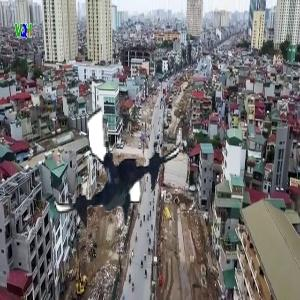drone: (44, 90, 192, 238)
